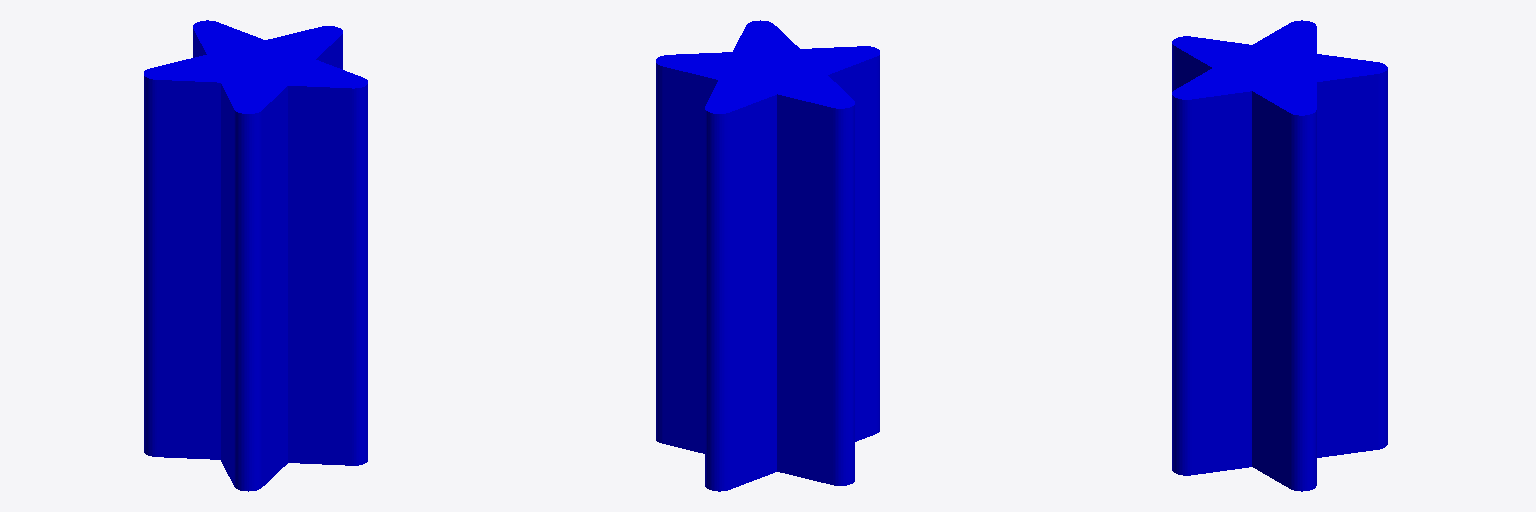
robot.urdf — board1_block9:
<?xml version="1.0"?>
<robot name="board1_block9">
    <link name="board1_block9">
        <visual>
            <origin xyz="0 0 0 " rpy=" 0 0 0"/>
            <geometry>
                <mesh filename="../meshes/SIMO_Board1_Block9.stl" scale="0.001 0.001 0.001"/>
            </geometry>
            <material name="red">
                <color rgba="0.0 0.0 1.0 1.0"/>
            </material>
        </visual>
        <collision>
            <origin xyz="0 0 0" rpy="0 0 0"/>
            <geometry>
                <mesh filename="../meshes/SIMO_Board1_Block9.stl" scale="0.001 0.001 0.001"/>
            </geometry>
        </collision>
    </link>
</robot>

--- Render facts (derived) ---
The picture shows the robot from 3 angles, left to right: view 1: azimuth 30°, elevation 25°; view 2: azimuth 150°, elevation 25°; view 3: azimuth 270°, elevation 25°; orthographic projection.
Robot: board1_block9 — 1 links, 0 joints (none); root link board1_block9; default pose: all joints at 0.
Links seen in each view (by area): view 1: board1_block9; view 2: board1_block9; view 3: board1_block9.
Link boxes in pixels (x1,y1,x2,y2): board1_block9: [144, 20, 367, 491]; board1_block9: [656, 20, 879, 491]; board1_block9: [1172, 20, 1387, 491].
Bounding box of the posed robot: 0.0543 × 0.052 × 0.1 m (x, y, z).
1 mesh visuals loaded from 1 distinct referenced files (1 ASCII STL).